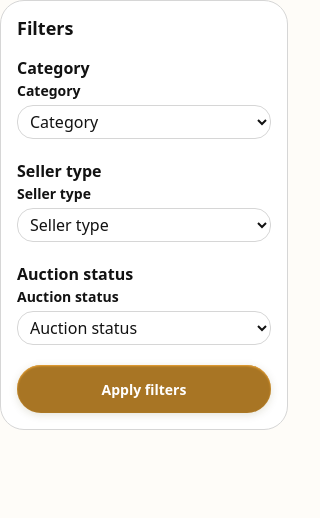
Test case: 2. Filters › reveals company name filter when seller type is company
This screenshot has width=320, height=518.
Expected: the field labelled "Company name" is not shown
Select "Company" in the dropdown labelled "Seller type": (144, 225) left=17, top=208, right=271, bottom=242
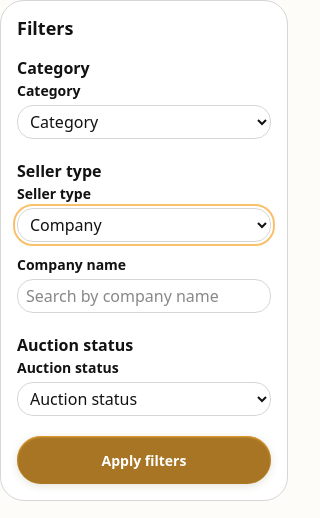
Result: the search field labelled "Company name" is shown at left=17, top=279, right=271, bottom=313
